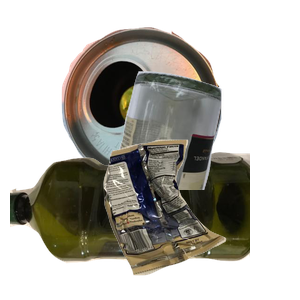glass: (109, 69, 300, 249)
metal: (59, 10, 273, 189)
plastic: (10, 149, 250, 300)
trash: (101, 137, 300, 300)
